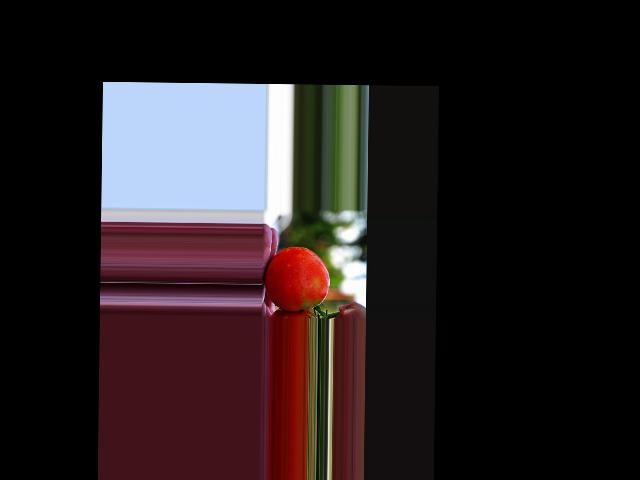tomato: (264, 246, 330, 311)
